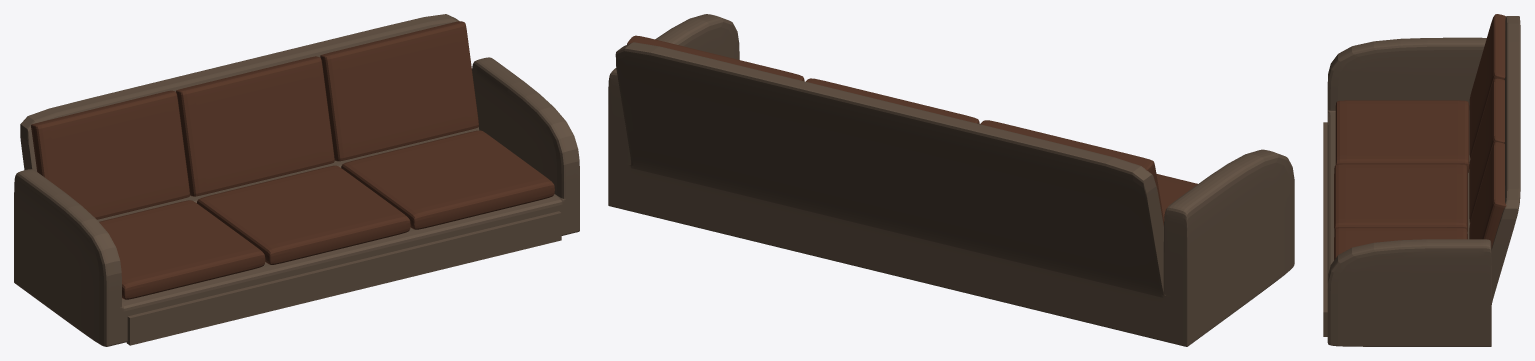
Rendered from Sofa.fbx.
3 views of the same model, side by side, from view 1: azimuth 30°, elevation 25°; view 2: azimuth 150°, elevation 25°; view 3: azimuth 270°, elevation 25° (orthographic). The views are drawn at different scales.
Parts seen in each view (by area): view 1: Sofa; view 2: Sofa; view 3: Sofa.
Part boxes in pixels (x1,y1,x2,y2): Sofa: (14,14,579,346); Sofa: (608,14,1294,346); Sofa: (1323,14,1520,346).
Size of the model in its own units: 863 by 261 by 342.
